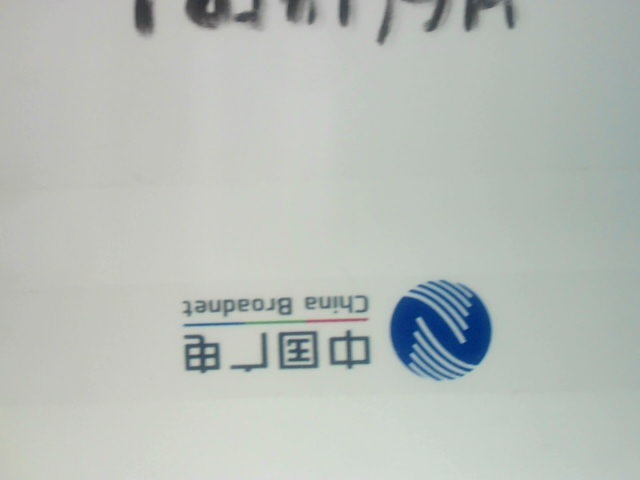AW_ChinaBroadNet: (146, 264, 510, 390)
